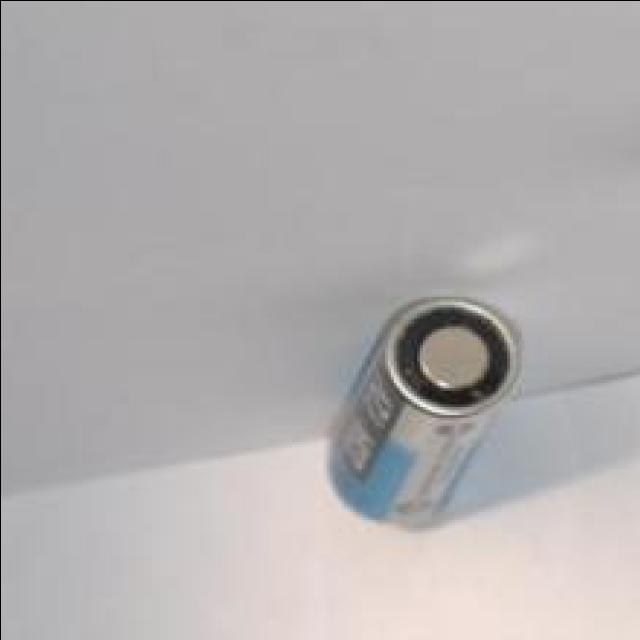-Hazardous waste - battery-: (326, 298, 514, 528)
